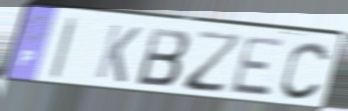B: (134, 25, 193, 89)
C: (279, 39, 333, 102)
E: (227, 34, 289, 99)
I: (47, 16, 80, 82)
K: (93, 21, 145, 85)
Z: (181, 29, 246, 96)
